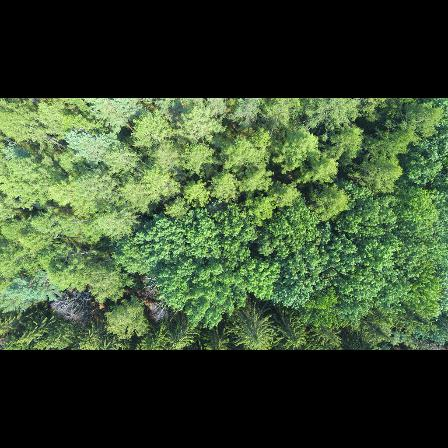Dead: (51, 288, 93, 325), (151, 301, 170, 325)
